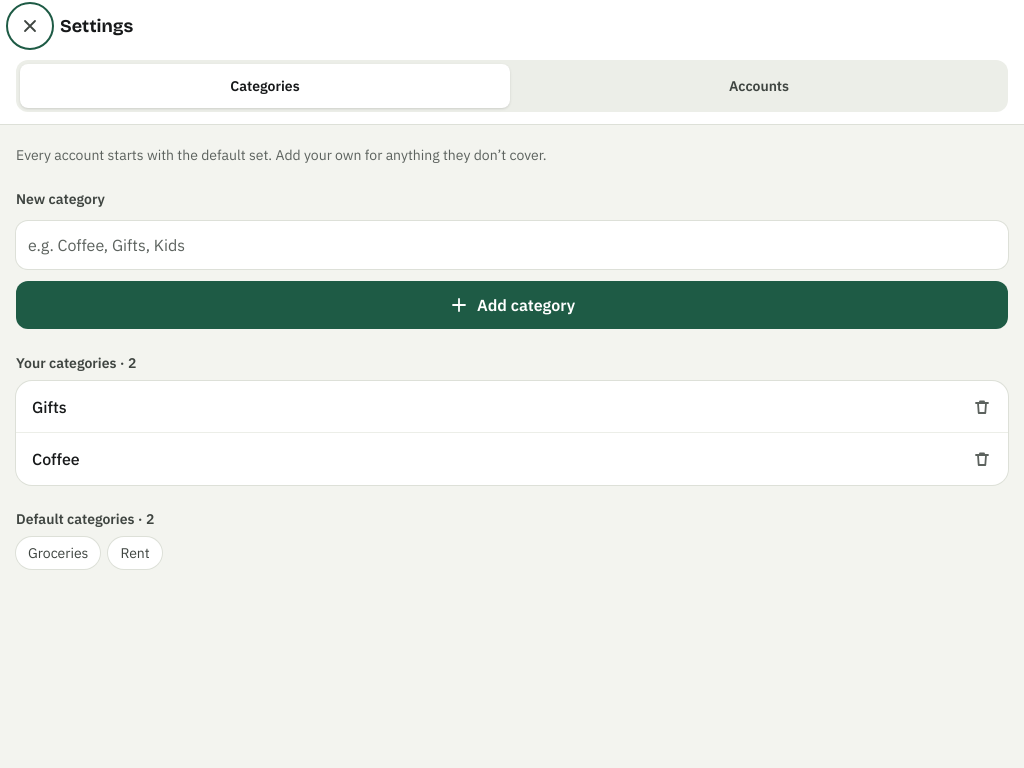
it: PhoneSettings — categories › refuses an empty name and a duplicate in any case
Click the button "Add category" at (512, 305), box [16,281,1008,329]
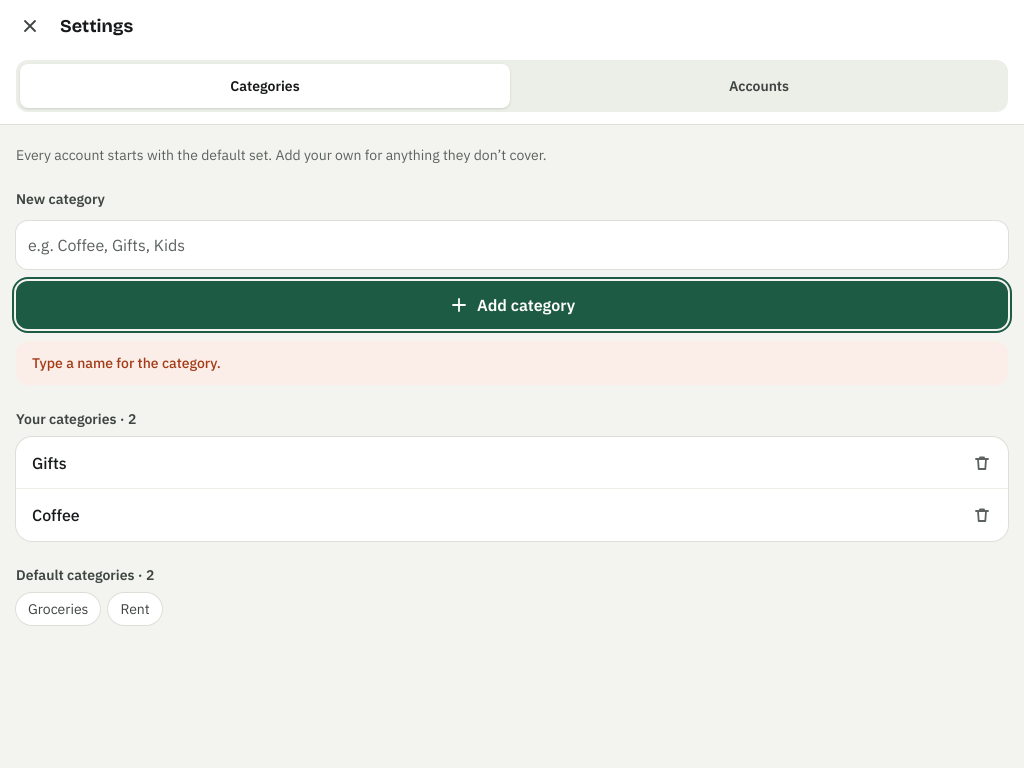
Check: the message reads "Type a name for the category.", box [32,354,221,372]
Type "coffee" into the field labelled "New category" at (512, 245), box [16,221,1008,269]
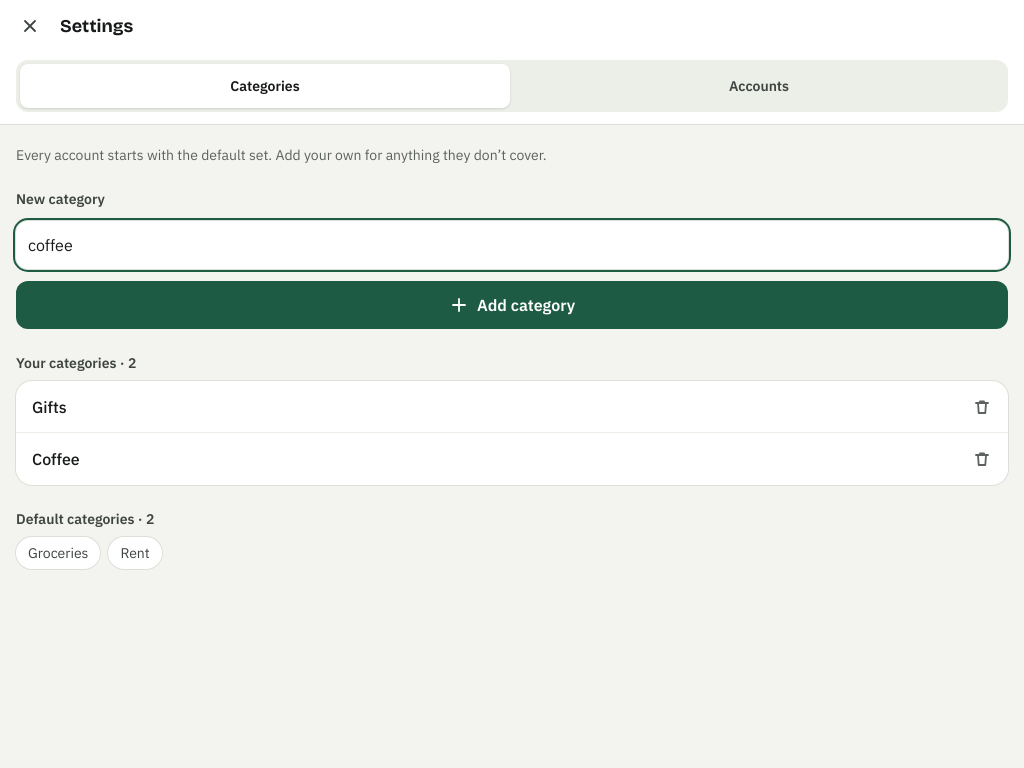
Click the button "Add category" at (512, 305), box [16,281,1008,329]
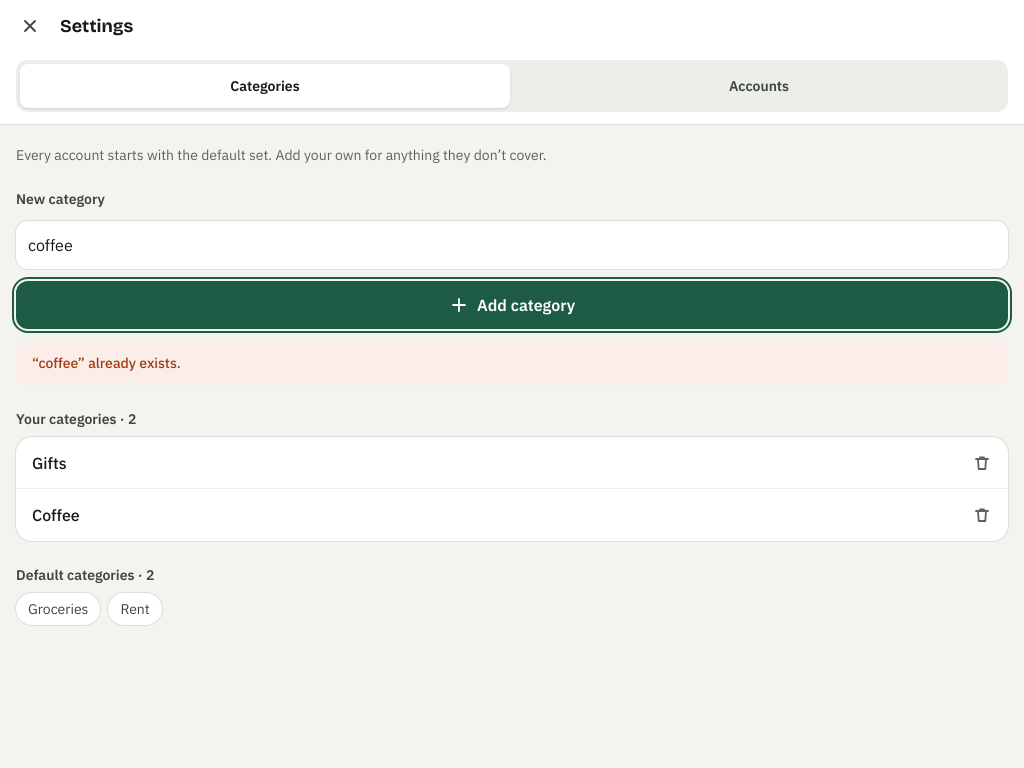
Check: the message reads "“coffee” already exists.", box [32,354,181,372]
